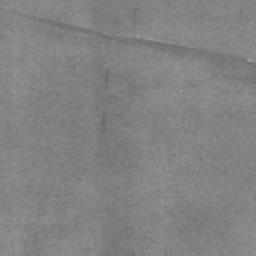Finishing roll printing: (24, 12, 256, 64)
